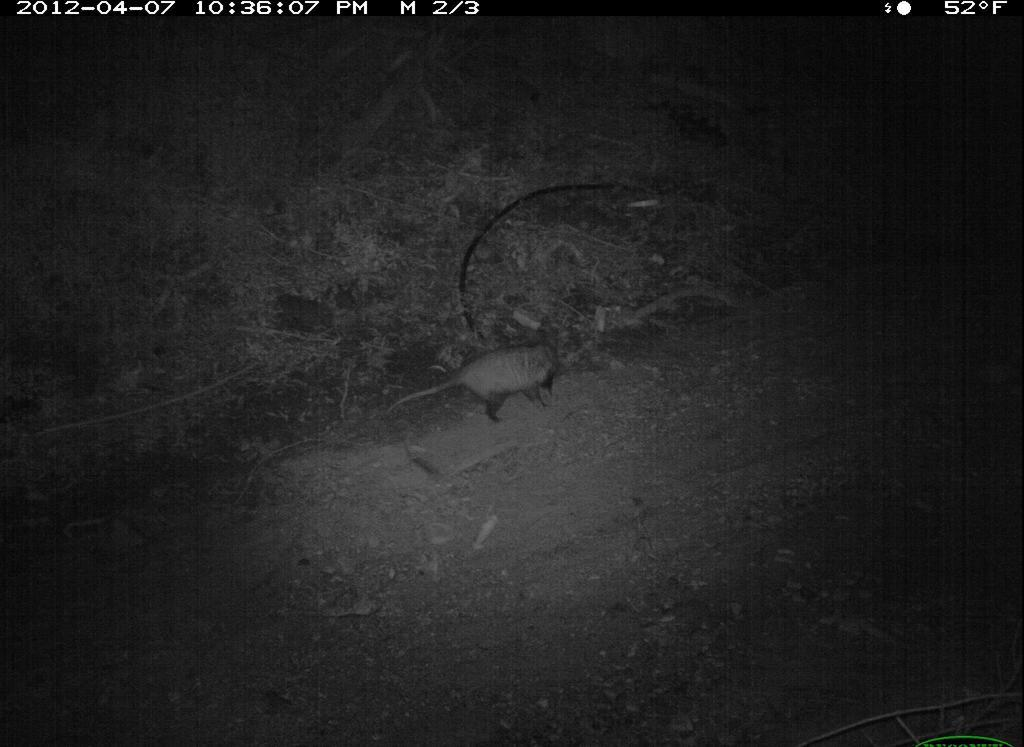opossum: (376, 305, 580, 445)
